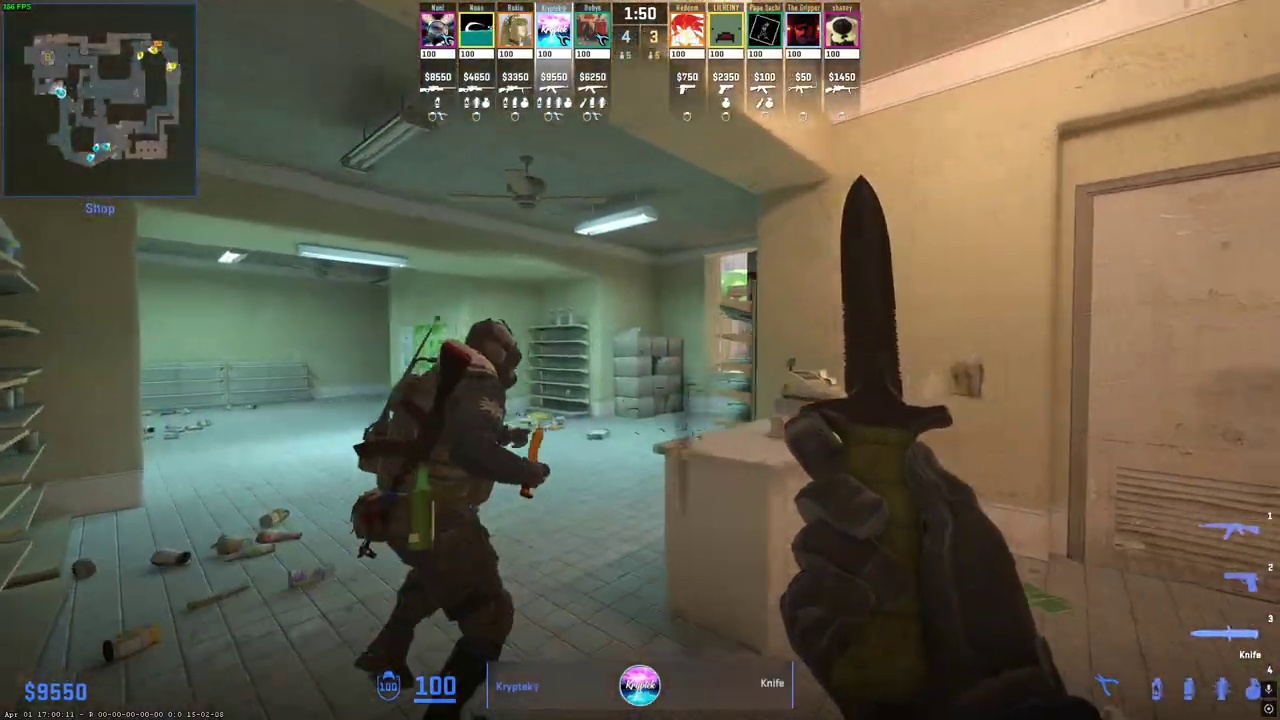CT: (365, 318, 535, 718)
